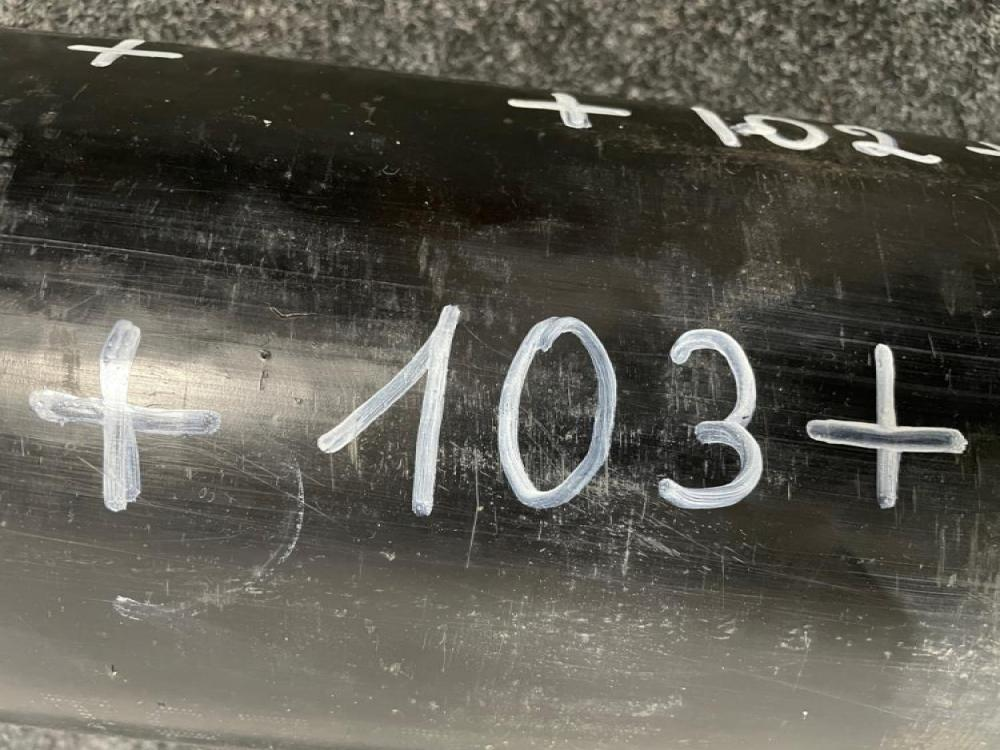+: (316, 19, 576, 168), (323, 598, 550, 734), (821, 373, 892, 479), (902, 49, 958, 138)
0: (319, 368, 584, 468)
1: (306, 236, 598, 351)
3: (318, 485, 566, 574)
